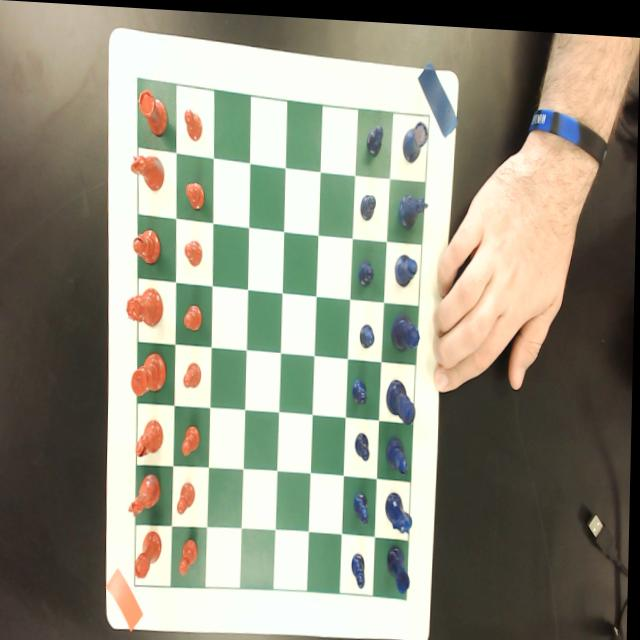B: (388, 431, 411, 470), (396, 249, 420, 285)
K: (387, 374, 418, 421)
N: (387, 487, 416, 530), (399, 188, 430, 226)
P: (354, 487, 373, 522), (366, 118, 385, 153), (353, 548, 369, 585), (360, 188, 379, 219), (356, 427, 372, 460), (358, 256, 376, 285), (354, 375, 370, 404), (360, 319, 377, 346)
Q: (392, 309, 422, 348)
R: (403, 117, 431, 161), (389, 541, 414, 590)
b: (137, 416, 166, 457), (134, 224, 163, 264)
k: (132, 349, 169, 396)
n: (128, 469, 163, 516), (132, 151, 166, 192)
p: (181, 535, 201, 574), (184, 106, 204, 141), (179, 479, 198, 515), (183, 421, 202, 456), (186, 179, 207, 210), (185, 236, 205, 266), (185, 301, 204, 330), (185, 360, 203, 388)
q: (128, 285, 165, 326)
r: (137, 86, 169, 136), (137, 528, 165, 578)
